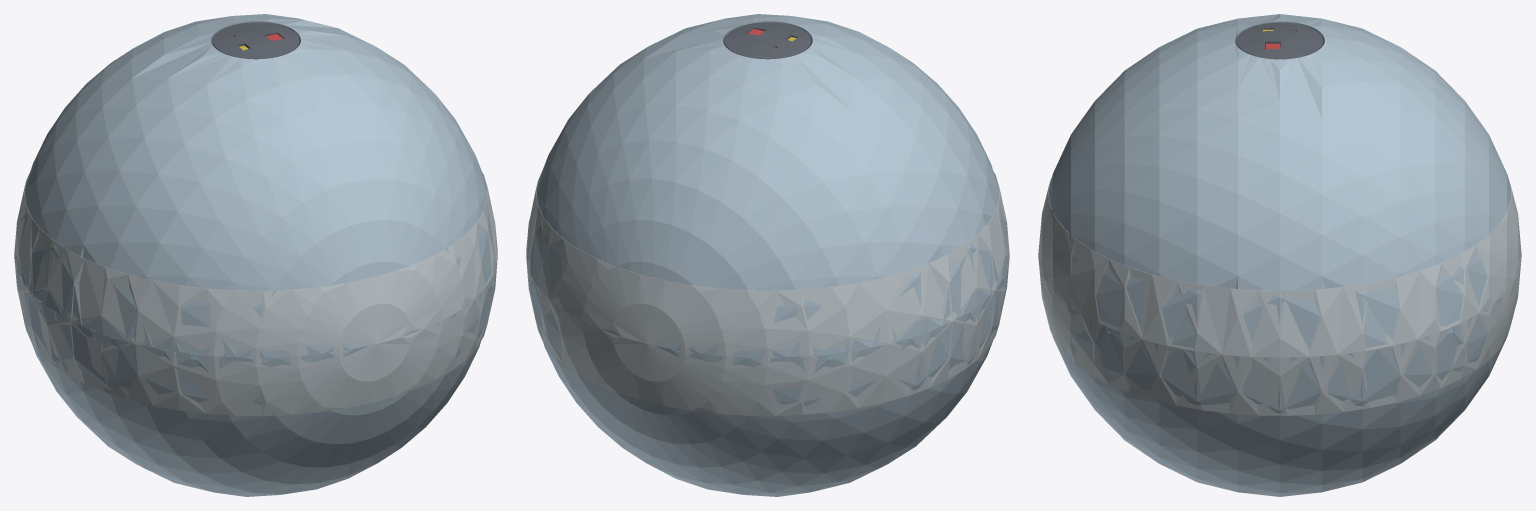
The model's file is WB700_Phase1_Assembly.glb.
3 views of the same model, side by side, from view 1: azimuth 30°, elevation 25°; view 2: azimuth 150°, elevation 25°; view 3: azimuth 270°, elevation 25° (orthographic).
Parts seen in each view (by area): view 1: SH-01, SH-04, SH-02, ST-02; view 2: SH-01, SH-04, SH-02, ST-02; view 3: SH-01, SH-04, SH-02, ST-02.
Part boxes in pixels (bbox=[...]): SH-01: bbox=[14, 14, 494, 357]; SH-04: bbox=[14, 170, 497, 415]; SH-02: bbox=[15, 258, 497, 496]; ST-02: bbox=[212, 22, 299, 59]; SH-01: bbox=[531, 14, 1009, 357]; SH-04: bbox=[526, 171, 1009, 415]; SH-02: bbox=[526, 258, 1008, 496]; ST-02: bbox=[724, 22, 811, 59]; SH-01: bbox=[1048, 14, 1510, 349]; SH-04: bbox=[1038, 175, 1521, 415]; SH-02: bbox=[1050, 287, 1509, 496]; ST-02: bbox=[1236, 22, 1323, 59].
Bounding box in the file's own units: 700 × 698 × 701.
